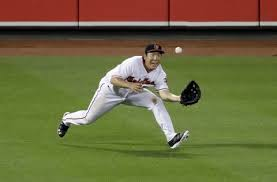baseball: (174, 46, 183, 54)
baseball player: (57, 42, 201, 151)
